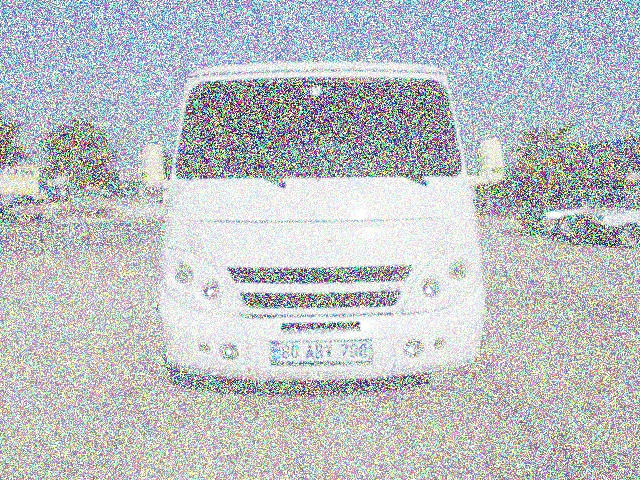plaka: (277, 338, 373, 365)
